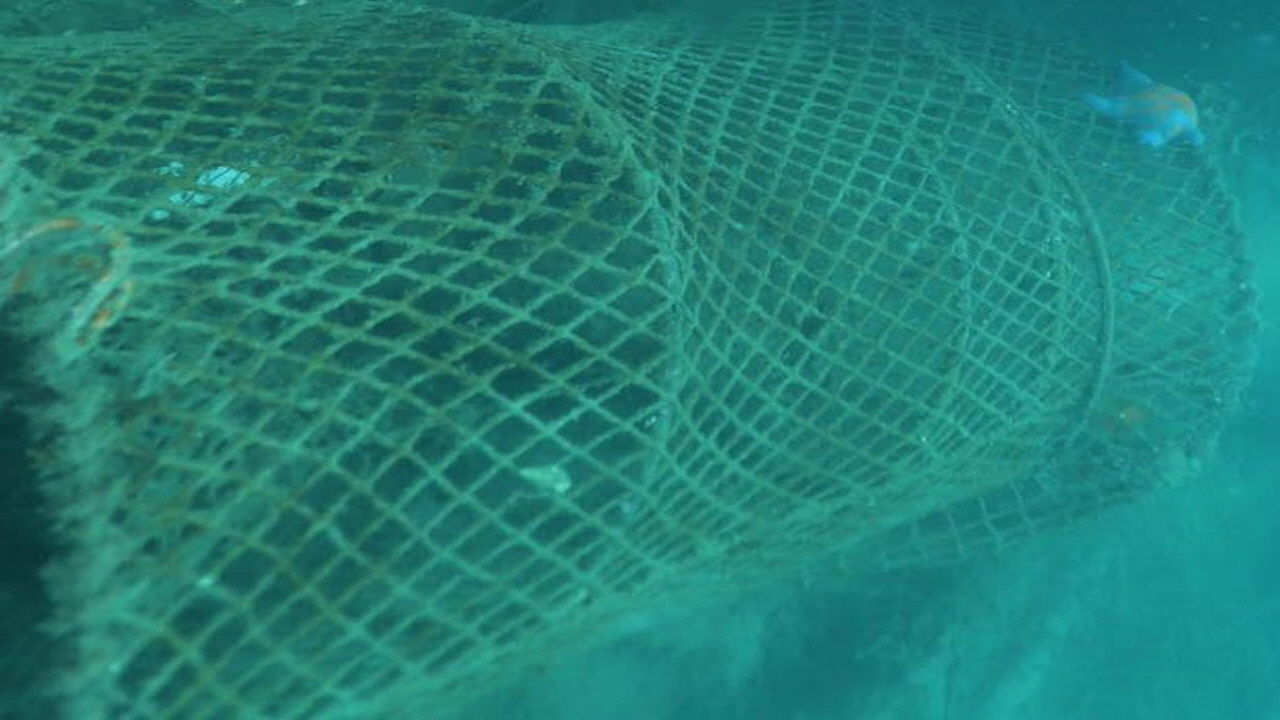spring fish trap: (0, 2, 1259, 720)
